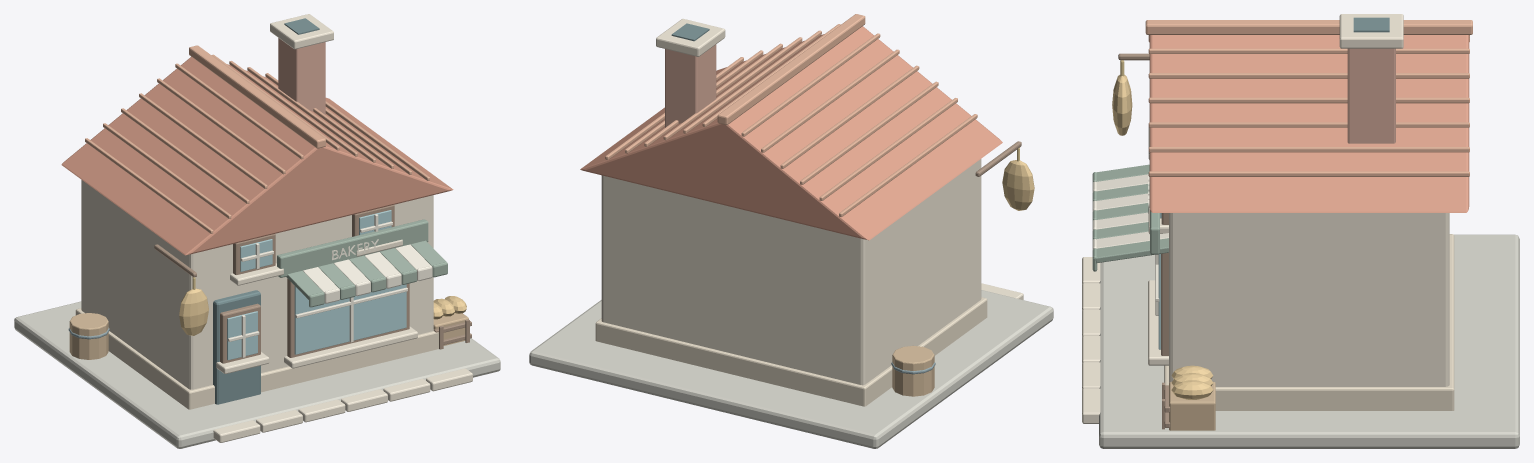
The model's file is bakery.glb.
3 views of the same model, side by side, from view 1: azimuth 30°, elevation 25°; view 2: azimuth 150°, elevation 25°; view 3: azimuth 270°, elevation 25° (orthographic). The views are drawn at different scales.
Visible parts, largest first — view 1: Terracotta gable, Cream plaster shop, Stone foundation, Stone shop plinth, Blue glazing.001, Shop fascia, Brick chimney, Bakery entrance, Ridge cap, Barrel, Stone window sill.001, Chimney crown (+28 smaller); view 2: Cream plaster shop, Terracotta gable, Stone foundation, Stone shop plinth, Brick chimney, Ridge cap, Barrel, Chimney crown, Bread-shaped sign, Roof tile course, Roof tile course.001, Roof tile course.002 (+8 smaller); view 3: Cream plaster shop, Terracotta gable, Stone foundation, Stone shop plinth, Brick chimney, Ridge cap, Roof tile course.011, Roof tile course.010, Roof tile course.008, Chimney crown, Crate body, Roof tile course.006 (+21 smaller).
Boxes of the visible parts, bbox=[...] form: Terracotta gable: bbox=[61, 56, 453, 255]; Cream plaster shop: bbox=[81, 180, 433, 389]; Stone foundation: bbox=[14, 301, 500, 448]; Stone shop plinth: bbox=[75, 308, 438, 409]; Blue glazing.001: bbox=[294, 284, 406, 354]; Shop fascia: bbox=[277, 219, 428, 277]; Brick chimney: bbox=[278, 38, 325, 114]; Bakery entrance: bbox=[213, 290, 260, 404]; Ridge cap: bbox=[189, 45, 325, 148]; Barrel: bbox=[69, 313, 108, 359]; Stone window sill.001: bbox=[284, 326, 417, 368]; Chimney crown: bbox=[270, 14, 333, 49]; Cream plaster shop: bbox=[601, 159, 981, 385]; Terracotta gable: bbox=[580, 26, 1002, 240]; Stone foundation: bbox=[529, 290, 1053, 448]; Stone shop plinth: bbox=[595, 297, 987, 406]; Brick chimney: bbox=[665, 44, 716, 127]; Ridge cap: bbox=[717, 14, 865, 125]; Barrel: bbox=[892, 345, 934, 396]; Chimney crown: bbox=[656, 18, 725, 56]; Bread-shaped sign: bbox=[1002, 160, 1034, 210]; Roof tile course: bbox=[741, 33, 880, 136]; Roof tile course.001: bbox=[761, 49, 899, 152]; Roof tile course.002: bbox=[780, 65, 919, 168]; Cream plaster shop: bbox=[1169, 213, 1449, 386]; Terracotta gable: bbox=[1149, 35, 1469, 212]; Stone foundation: bbox=[1099, 234, 1519, 448]; Stone shop plinth: bbox=[1164, 234, 1454, 410]; Brick chimney: bbox=[1347, 48, 1395, 143]; Ridge cap: bbox=[1145, 20, 1472, 34]; Roof tile course.011: bbox=[1148, 171, 1469, 176]; Roof tile course.010: bbox=[1148, 147, 1469, 152]; Roof tile course.008: bbox=[1148, 97, 1469, 103]; Chimney crown: bbox=[1339, 14, 1403, 48]; Crate body: bbox=[1169, 381, 1215, 430]; Roof tile course.006: bbox=[1148, 48, 1469, 53].
Size of the model in its own units: 6.1 by 5.22 by 5.62.
